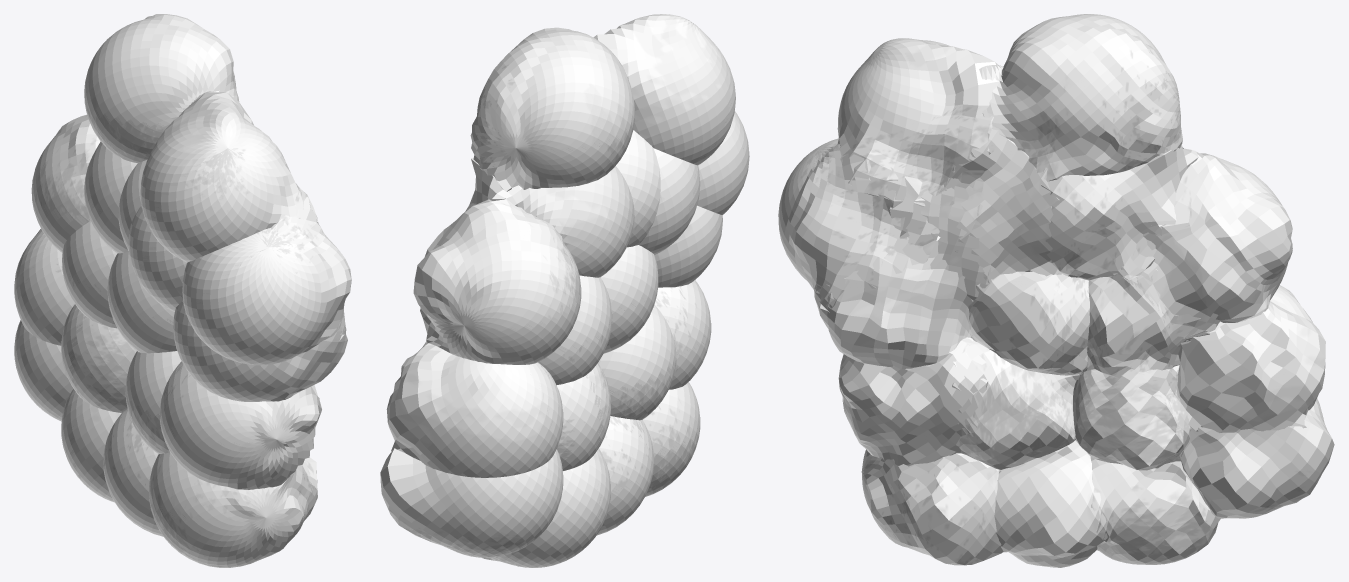
The model's file is Snow.fbx.
The picture shows the model from 3 angles, left to right: view 1: azimuth 30°, elevation 25°; view 2: azimuth 150°, elevation 25°; view 3: azimuth 270°, elevation 25°; orthographic projection. The views are drawn at different scales.
Parts seen in each view (by area): view 1: Sphere; view 2: Sphere; view 3: Sphere.
Boxes of the visible parts, left/top/right/bottom form: Sphere: left=14, top=14, right=351, bottom=567; Sphere: left=380, top=14, right=749, bottom=567; Sphere: left=778, top=14, right=1334, bottom=567.
Bounding box in the file's own units: 271 × 706 × 664.
Materials: 1 (1 with a texture image).
